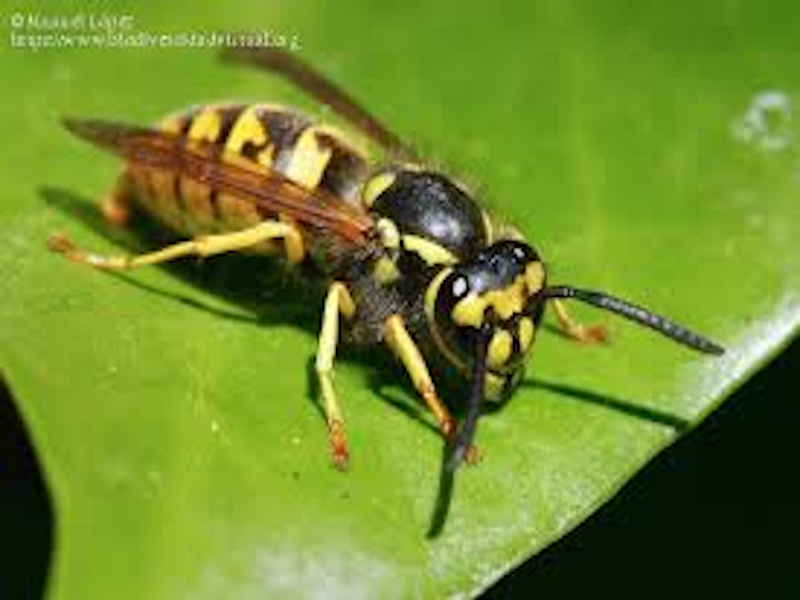chax: (50, 54, 729, 493)
